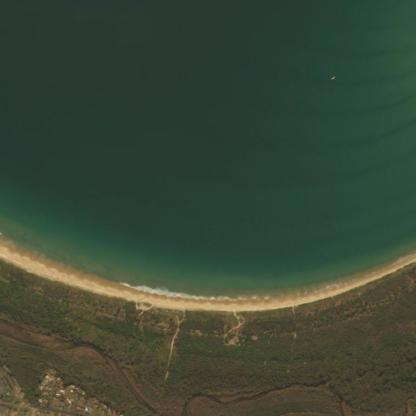ship: (325, 70, 340, 84)
